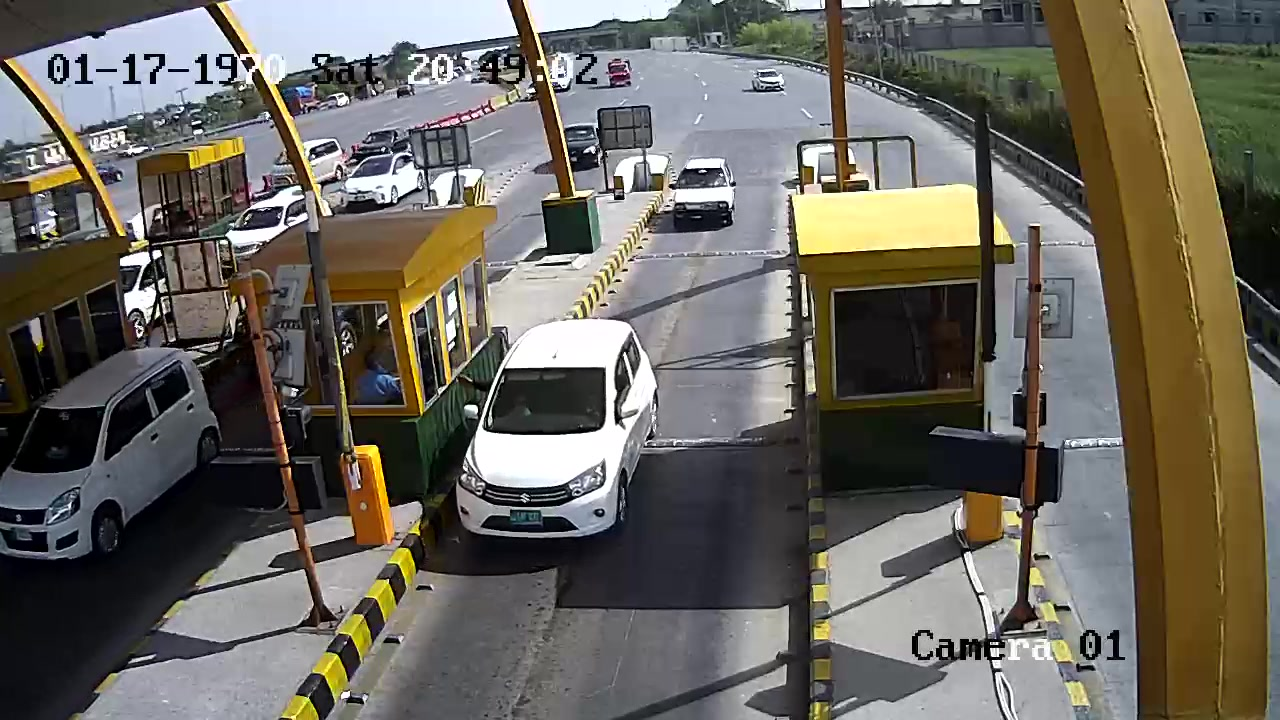F1: (451, 315, 660, 549)
